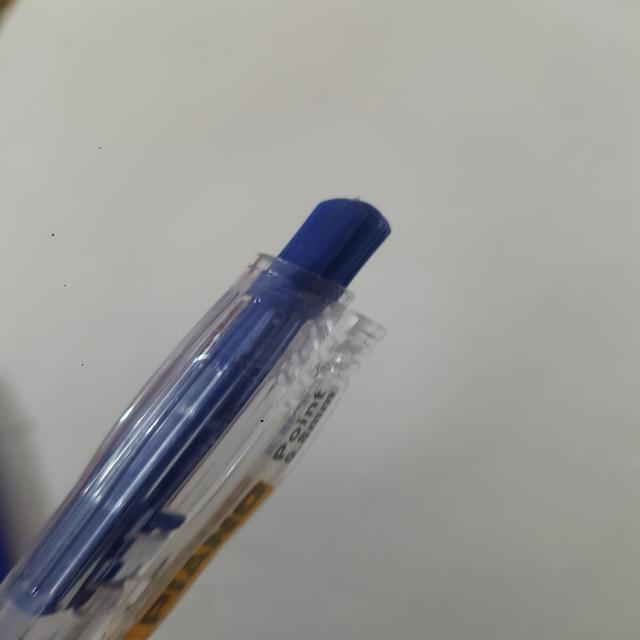general: (1, 196, 391, 638)
